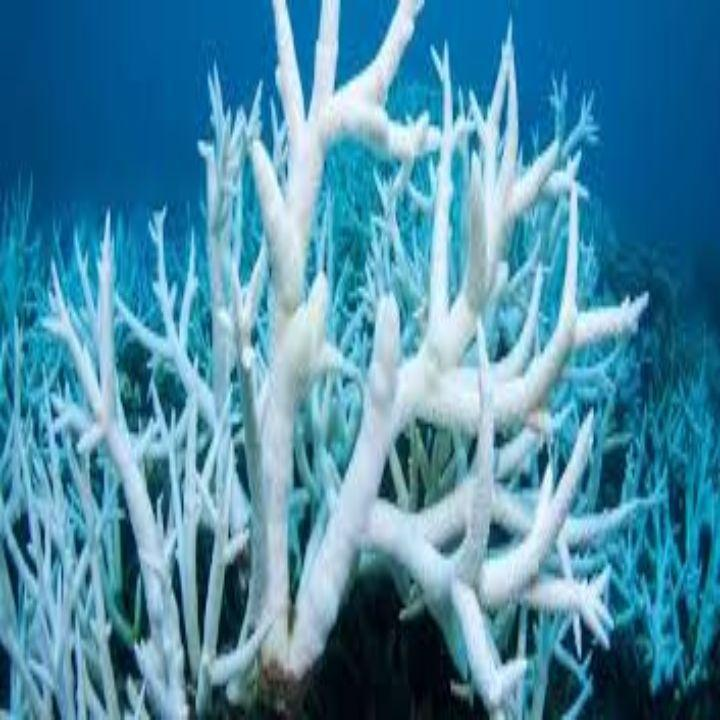Bleached-disease: (1, 0, 650, 720)
